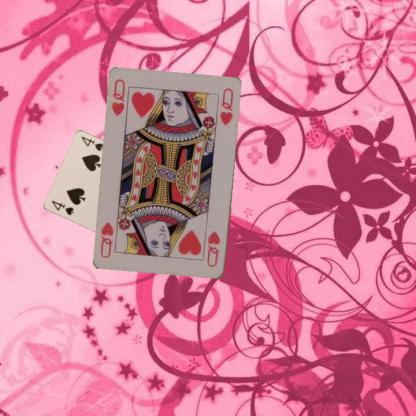4s: (49, 198, 75, 216)
Qh: (109, 76, 127, 118), (204, 228, 222, 269)
